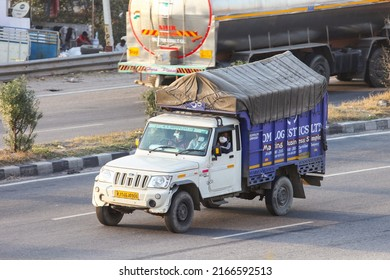truck: (91, 51, 327, 233), (116, 1, 390, 92)
